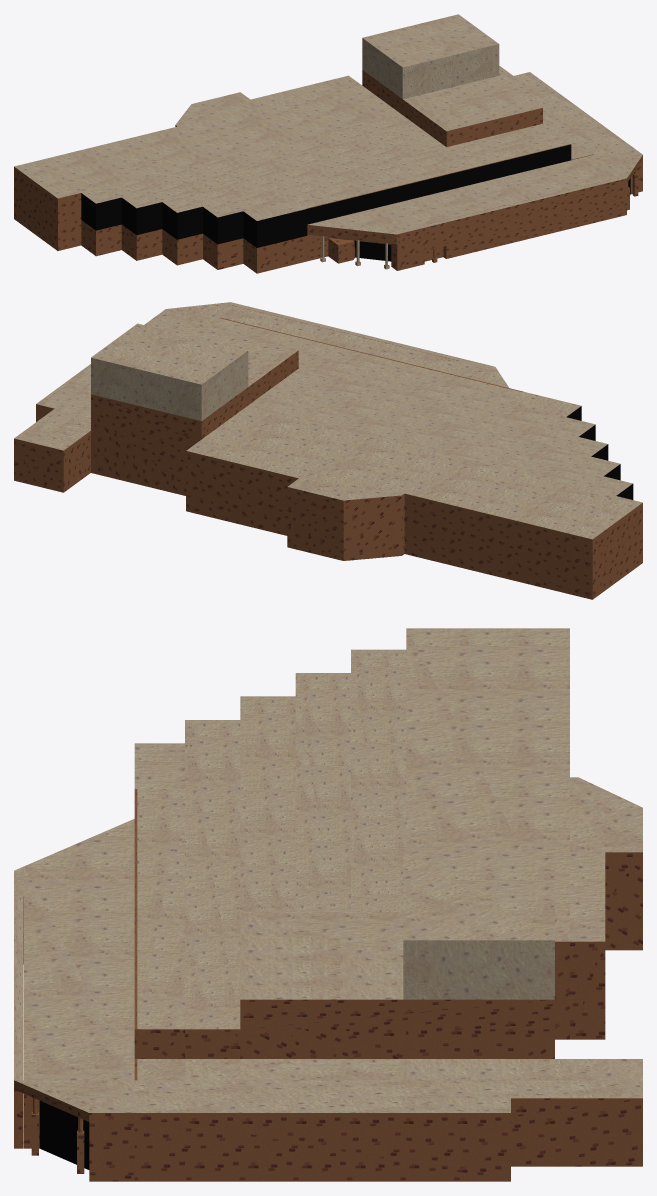
The model's file is ssc.obj.
The picture shows the model from 3 angles, top to bottom: view 1: azimuth 30°, elevation 25°; view 2: azimuth 150°, elevation 25°; view 3: azimuth 270°, elevation 25°; orthographic projection. The views are drawn at different scales.
Parts seen in each view (by area): view 1: No_Name; view 2: No_Name; view 3: No_Name.
Boxes of the visible parts, bbox=[...] form: No_Name: bbox=[14, 14, 642, 273]; No_Name: bbox=[14, 302, 642, 599]; No_Name: bbox=[14, 628, 642, 1181].
Size of the model in its own units: 26.75 by 5.18 by 15.63.
